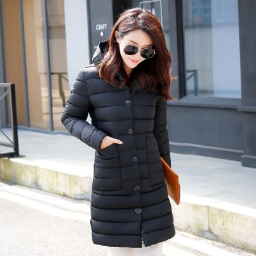face: (105, 10, 163, 77)
